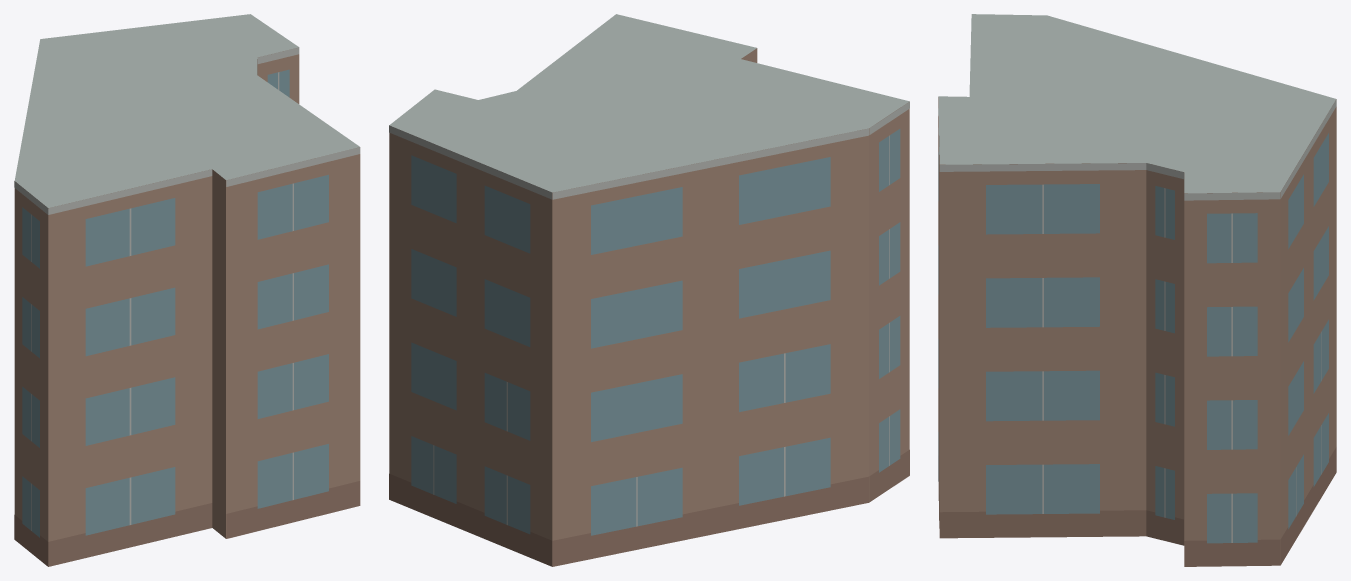
The model's file is survey-upis-32982597.glb.
3 views of the same model, side by side, from view 1: azimuth 30°, elevation 25°; view 2: azimuth 150°, elevation 25°; view 3: azimuth 270°, elevation 25° (orthographic). The views are drawn at different scales.
Visible parts, largest first — view 1: survey-upis-32982597.tmp; view 2: survey-upis-32982597.tmp; view 3: survey-upis-32982597.tmp.
Part boxes in pixels (x1,y1,x2,y2): survey-upis-32982597.tmp: (14, 14, 360, 566); survey-upis-32982597.tmp: (389, 14, 909, 566); survey-upis-32982597.tmp: (938, 14, 1336, 566).
Size of the model in its own units: 13.06 by 12.67 by 12.25.
